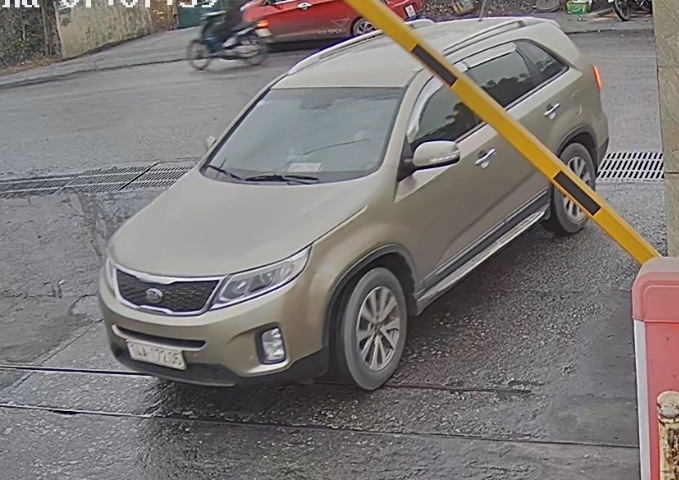vehicle plate: (118, 334, 188, 367)
